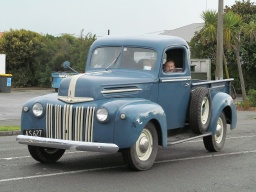car: (14, 33, 238, 172)
